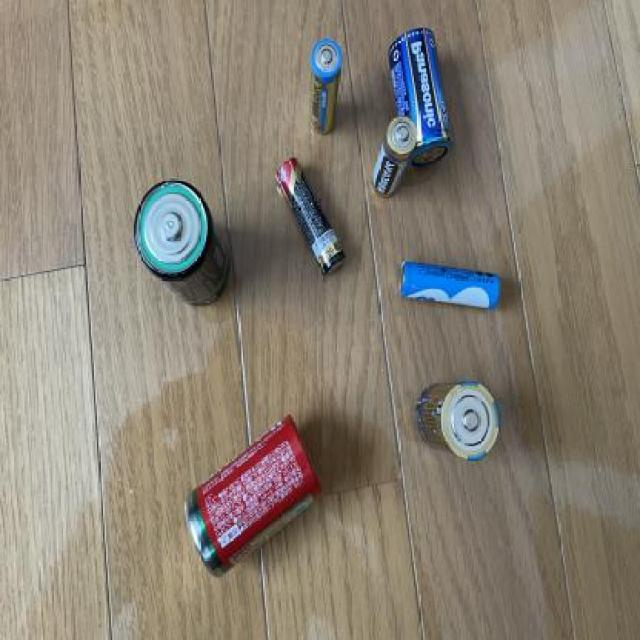hazardous waste: (183, 415, 325, 583), (131, 178, 232, 314), (388, 24, 456, 168), (274, 152, 348, 282), (414, 375, 503, 463), (397, 252, 508, 312), (303, 38, 346, 142), (371, 116, 418, 198)
